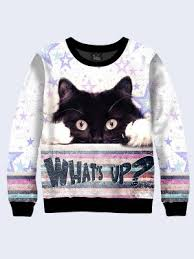cat: (47, 76, 145, 145)
